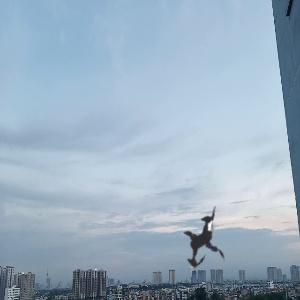drone: (153, 186, 262, 295)
